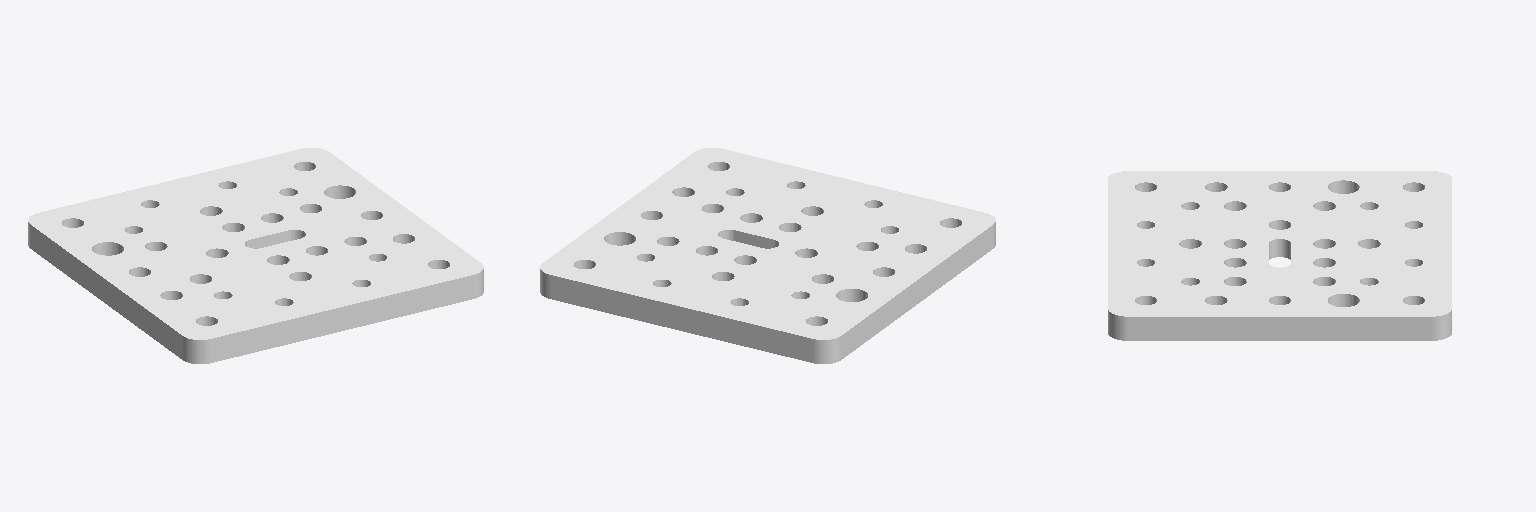
Rendered from LeftHorizontalSlider_0.obj.
3 renders of one model, left to right at view 1: azimuth 30°, elevation 25°; view 2: azimuth 150°, elevation 25°; view 3: azimuth 270°, elevation 25°, orthographic.
Size of the model in its own units: 0.0772 by 0.006 by 0.0772.